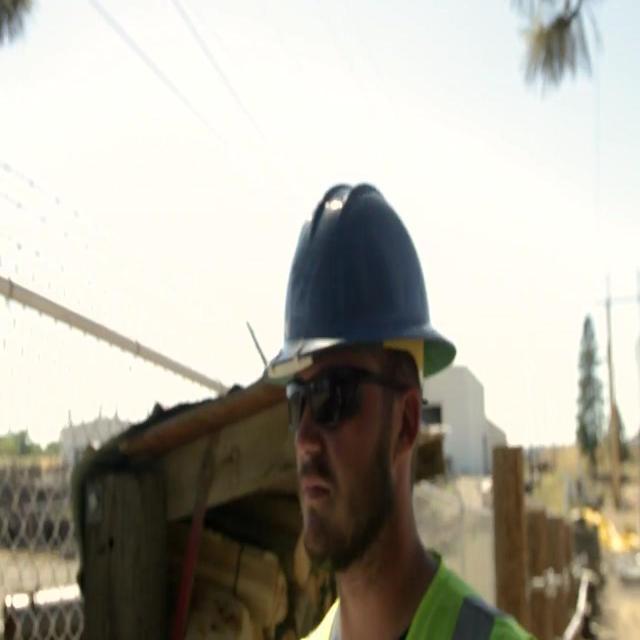Vest: (301, 549, 539, 639)
